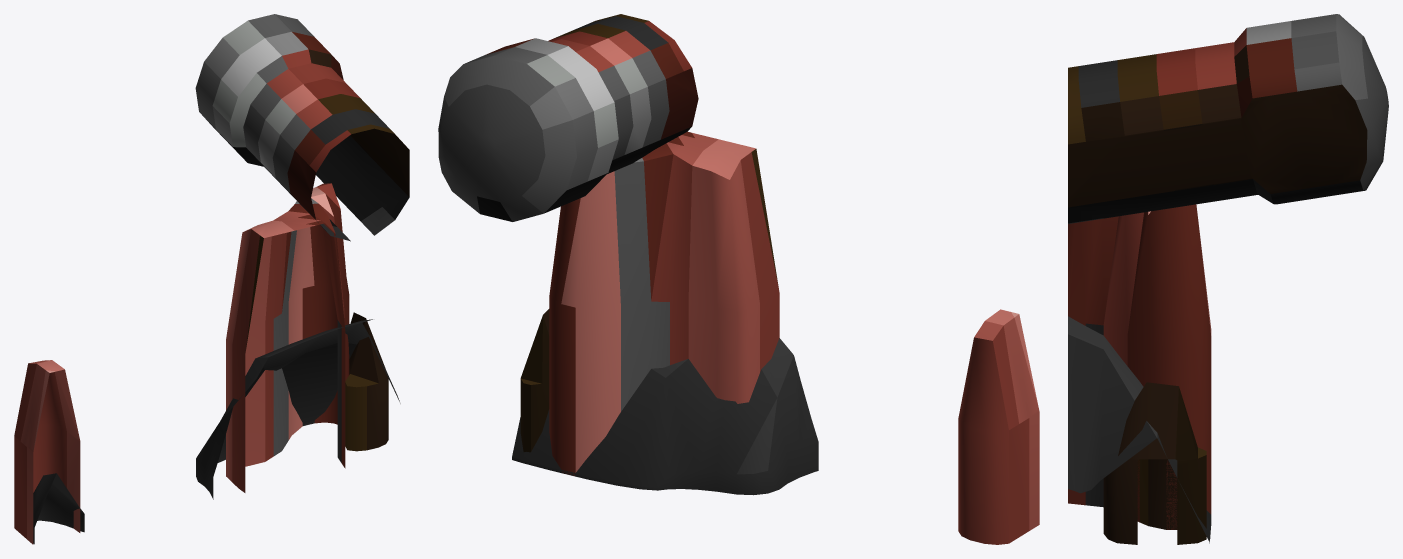
File: deli_tower_1.glb
3 views of the same model, side by side, from view 1: azimuth 30°, elevation 25°; view 2: azimuth 150°, elevation 25°; view 3: azimuth 270°, elevation 25° (orthographic). The views are drawn at different scales.
Parts seen in each view (by area): view 1: deli_tower_1_hull_red, deli_tower_1_s5, deli_tower_1_hull_gaps, deli_tower_1_hull_brown; view 2: deli_tower_1_hull_red, deli_tower_1_s5, deli_tower_1_hull_gaps, deli_tower_1_hull_brown; view 3: deli_tower_1_s5, deli_tower_1_hull_red, deli_tower_1_hull_brown, deli_tower_1_hull_gaps.
Boxes of the visible parts, x1,y1,x2,y2 form: deli_tower_1_hull_red: (14,183,349,544); deli_tower_1_s5: (195,14,409,241); deli_tower_1_hull_gaps: (33,319,400,544); deli_tower_1_hull_brown: (345,312,388,451); deli_tower_1_hull_red: (549,131,1039,544); deli_tower_1_s5: (438,14,698,221); deli_tower_1_hull_gaps: (512,338,818,495); deli_tower_1_hull_brown: (520,309,549,452); deli_tower_1_s5: (1068,14,1388,223); deli_tower_1_hull_red: (1068,204,1211,529); deli_tower_1_hull_brown: (1103,382,1206,544); deli_tower_1_hull_gaps: (1068,316,1211,543).
Size of the model in its own units: 15.99 by 15.13 by 8.94.
